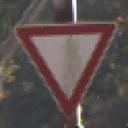preferencia: (10, 20, 122, 118)
